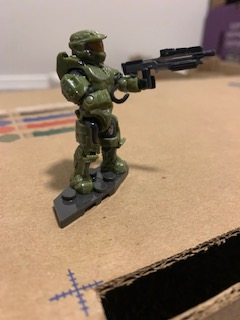chief: (56, 26, 156, 192)
rifle: (120, 44, 216, 89)
spartan: (54, 24, 154, 190)
